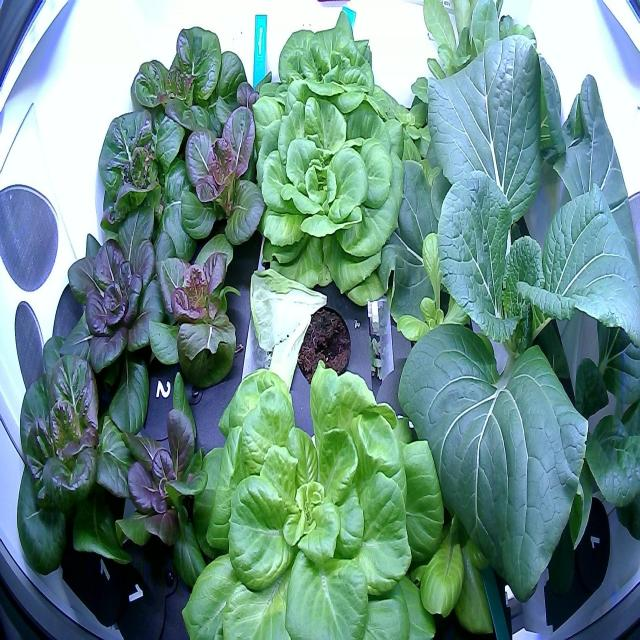Ready: (168, 342, 456, 640), (244, 87, 425, 310), (246, 2, 414, 137)
pod: (288, 289, 362, 394)
young: (4, 304, 156, 592), (103, 359, 230, 602), (51, 179, 179, 388), (134, 202, 252, 397), (128, 20, 254, 200), (404, 442, 518, 640), (87, 93, 208, 257), (173, 80, 269, 260), (392, 223, 491, 384), (372, 84, 456, 180)
